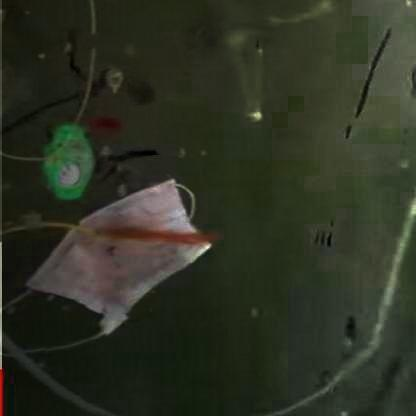Mask: (13, 178, 222, 358)
